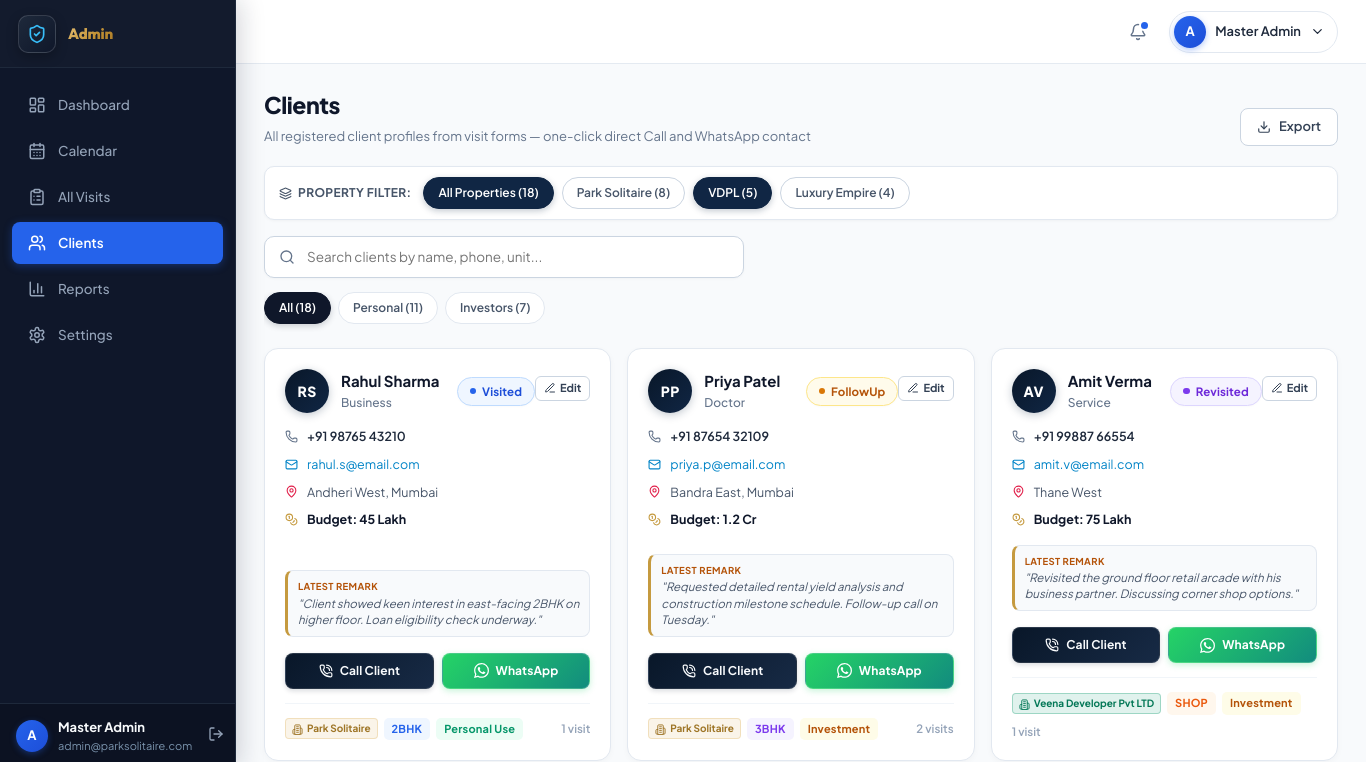
Test case: Park Solitaire Client Visit App › Centralized Admin Dashboard & Property Management › filters data when an individual property filter is selected in Clients view
The image size is (1366, 762).
Click on VDPL filter chip in Clients view
Click the button "VDPL (5)": (733, 193) 693,177 -> 772,209
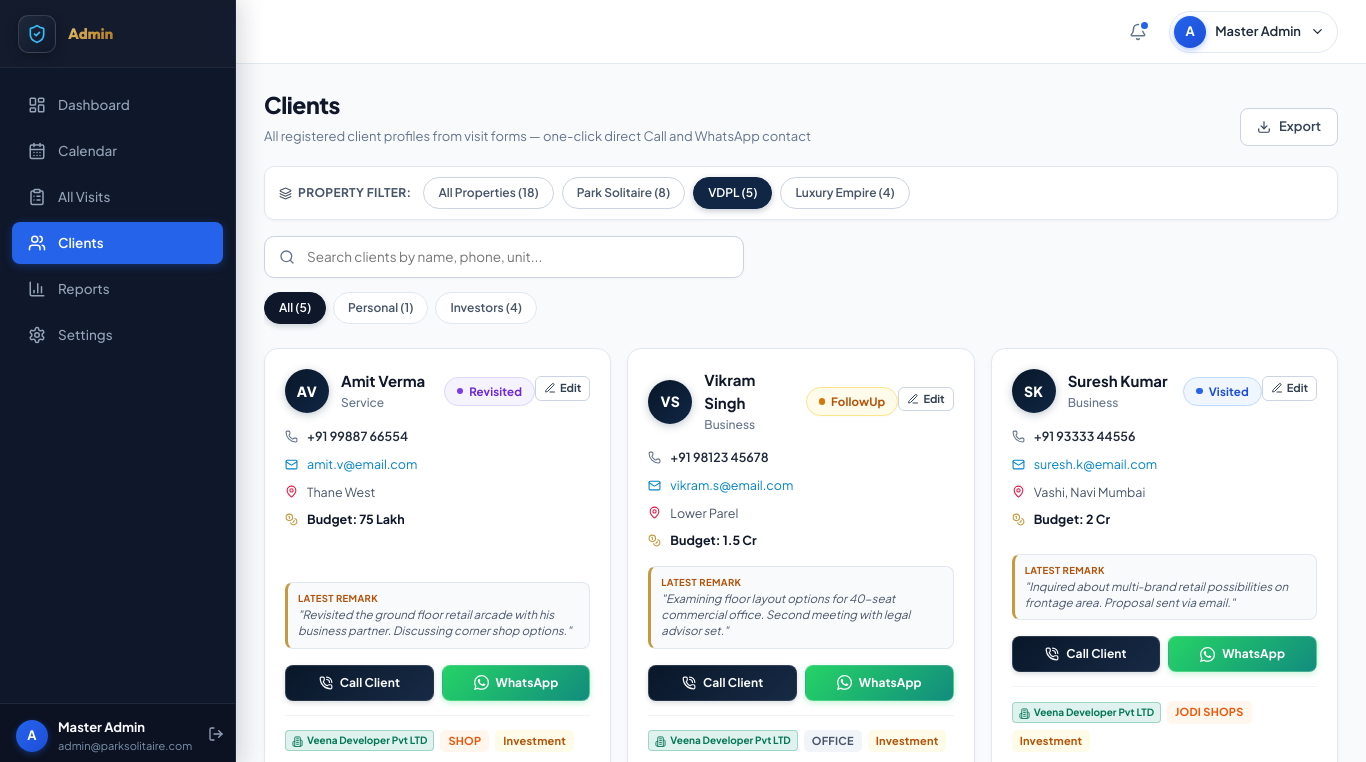
Expected: the heading "Amit Verma" is shown, 341,370 -> 425,392
Result: the heading "Rahul Sharma" is gone
